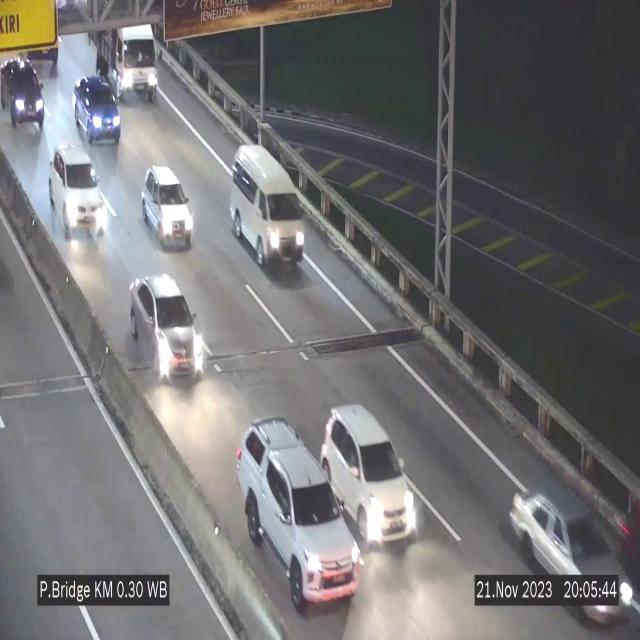Car: (238, 416, 358, 613), (322, 404, 418, 544), (230, 144, 304, 270), (130, 275, 206, 380), (49, 146, 105, 240), (142, 165, 193, 248), (72, 71, 124, 149), (0, 62, 47, 132)
